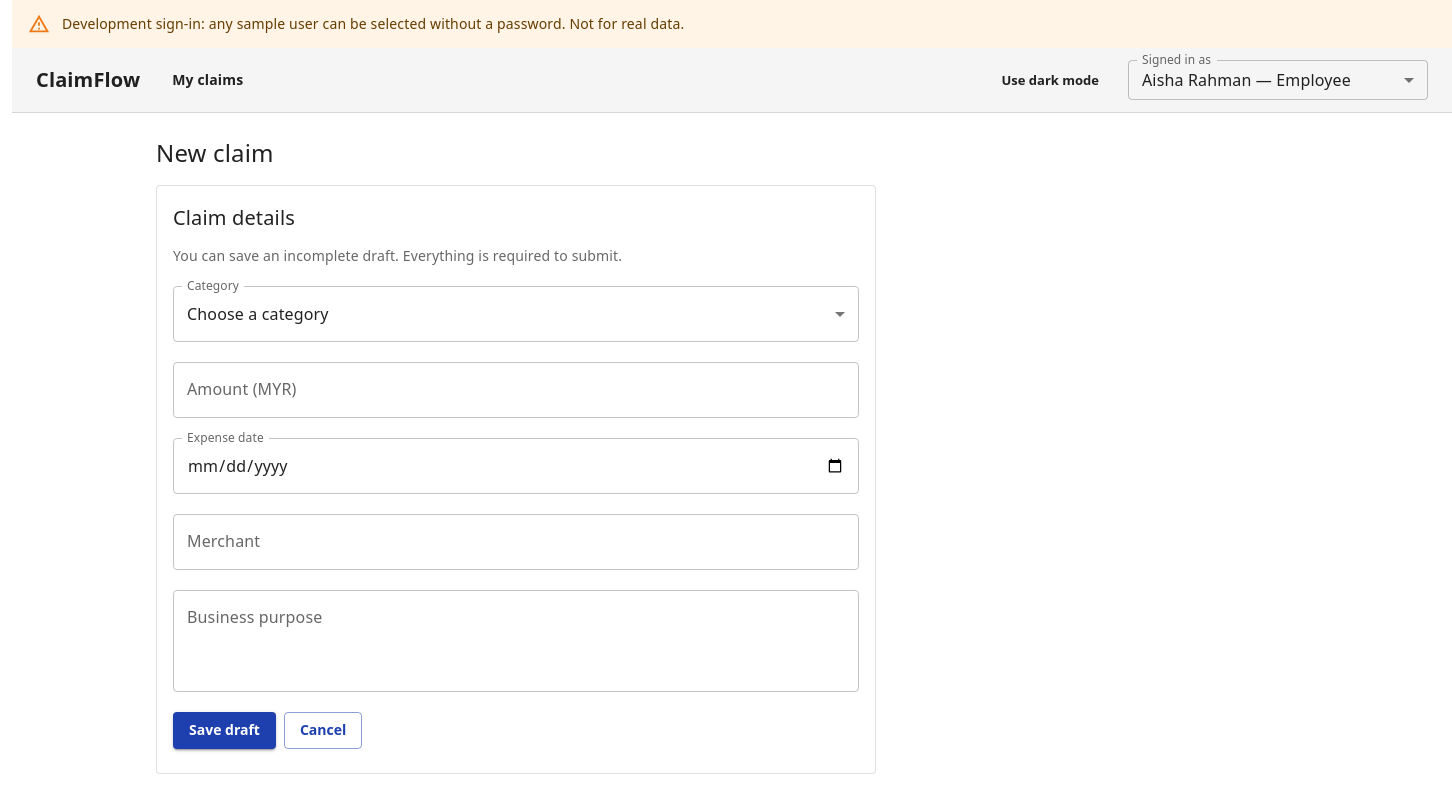
Test: creating a draft › returns to the new draft’s claim page, ready for a receipt and submission
In the field labelled "Merchant": (516, 542) [173,514,859,570], type "Regional Airline"
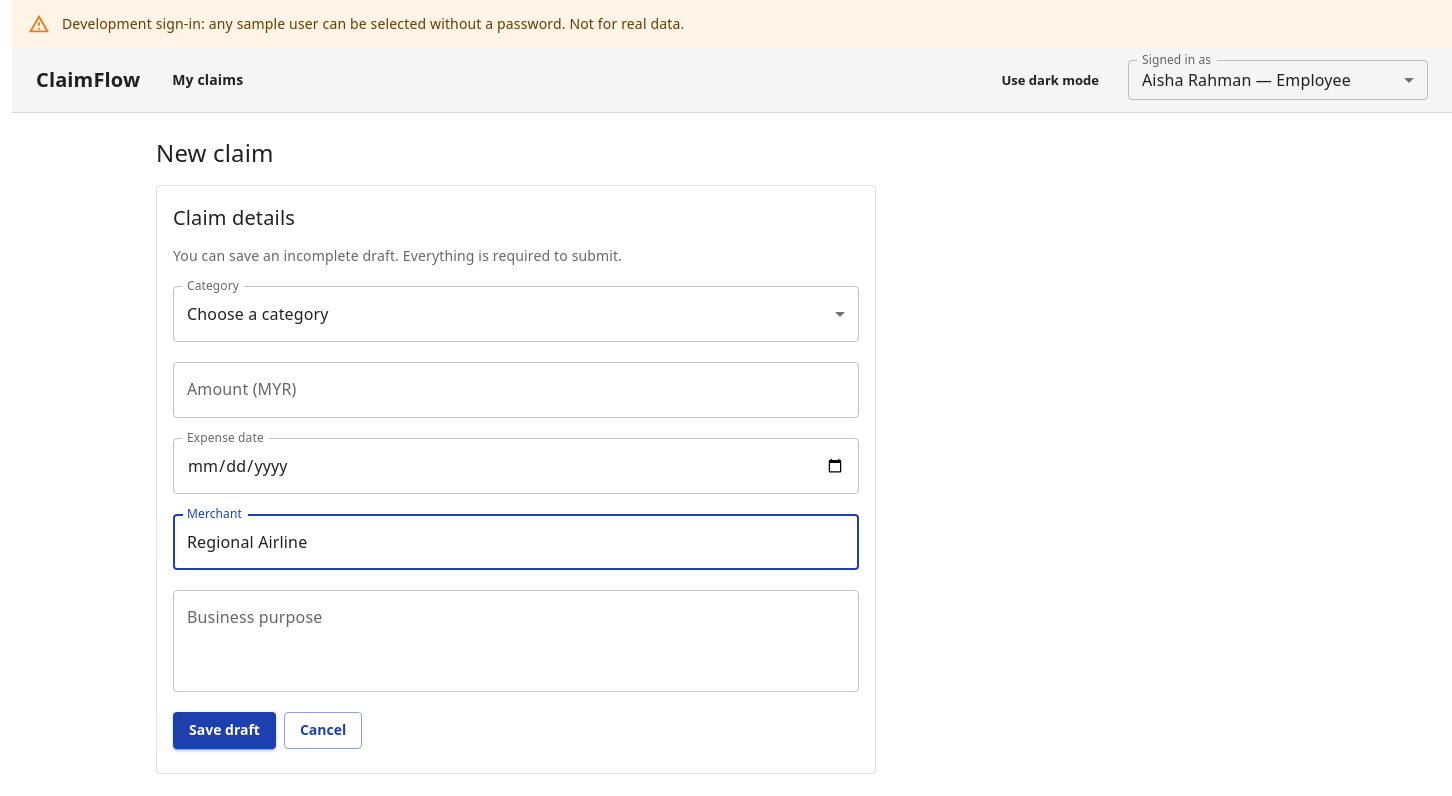
Click the button "Save draft": click(224, 730) [173,712,276,748]
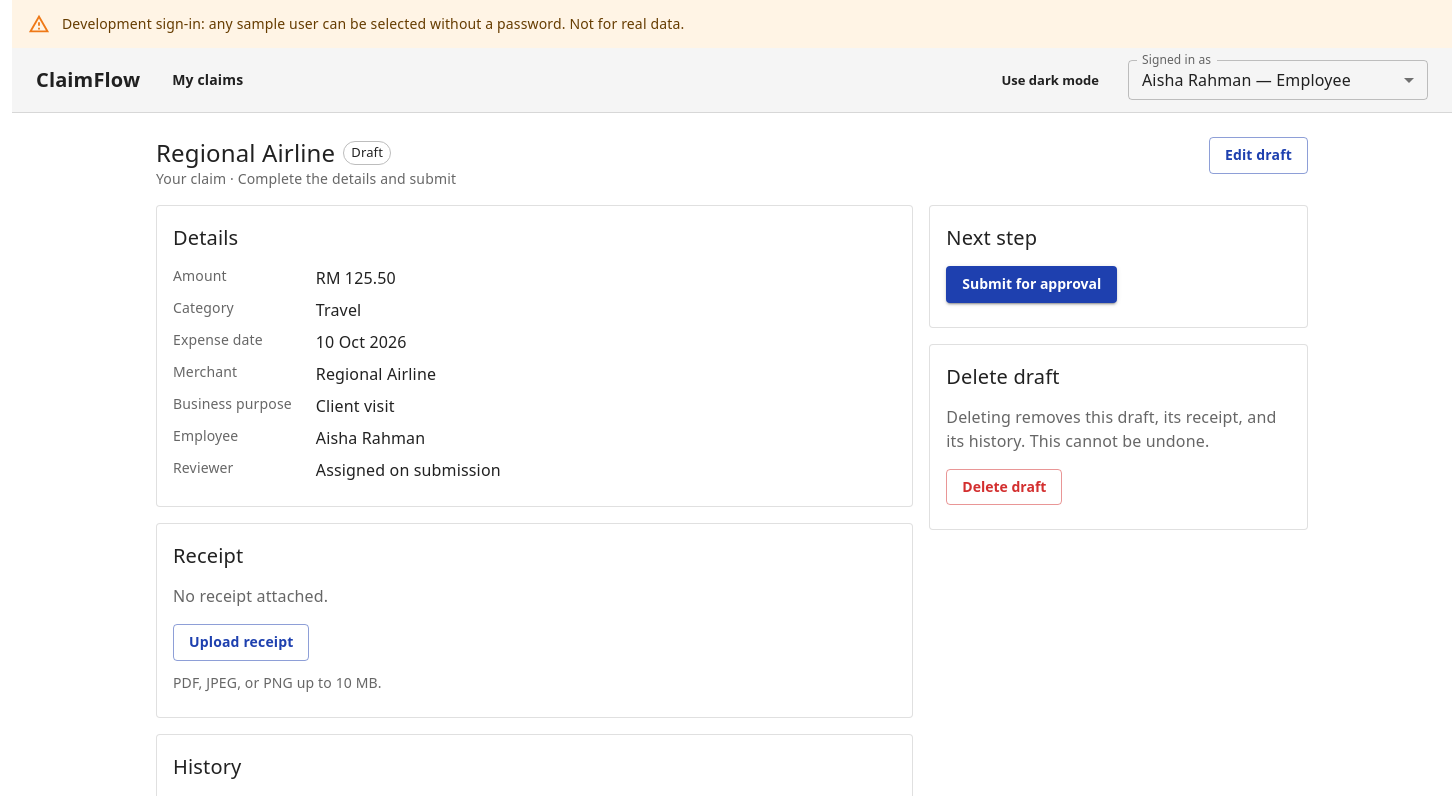
Expected: the heading "Regional Airline" is shown, [156,137,335,169]
Expected: the file field labelled "Upload receipt" is shown, [174,625,308,660]
Expected: the button "Submit for approval" is shown, [946,266,1117,302]
